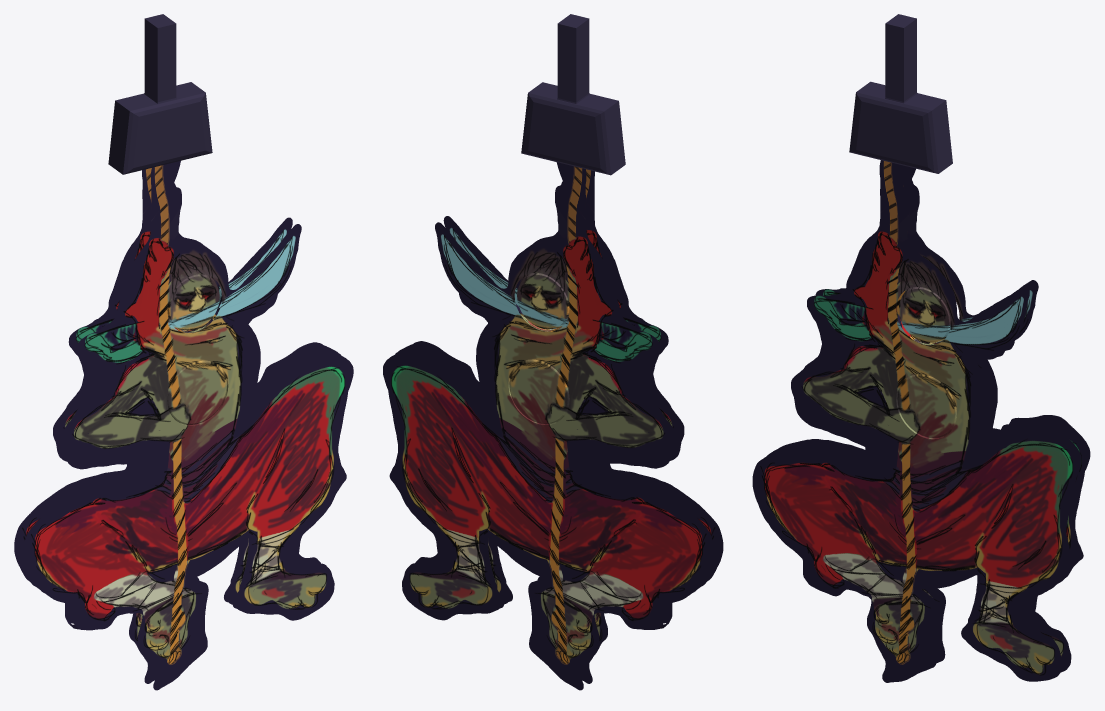
The model's file is Assasin.fbx.
3 renders of one model, left to right at view 1: azimuth 30°, elevation 25°; view 2: azimuth 150°, elevation 25°; view 3: azimuth 330°, elevation 25°, orthographic.
Parts seen in each view (by area): view 1: Assasin, AssasinHolder, AssassinHeart, AssasinHead; view 2: Assasin, AssasinHolder, AssassinHeart, AssasinHead; view 3: Assasin, AssasinHolder, AssassinHeart, AssasinHead.
Boxes of the visible parts, x1,y1,x2,y2 form: Assasin: [14, 161, 353, 690]; AssasinHolder: [108, 14, 212, 174]; AssassinHeart: [167, 360, 226, 424]; AssasinHead: [167, 274, 219, 330]; Assasin: [383, 162, 723, 690]; AssasinHolder: [521, 14, 625, 175]; AssassinHeart: [509, 359, 569, 424]; AssasinHead: [517, 273, 569, 329]; Assasin: [752, 160, 1090, 682]; AssasinHolder: [849, 14, 952, 173]; AssassinHeart: [897, 374, 956, 438]; AssasinHead: [898, 287, 950, 342].
Bounding box in the file's own units: 0.9942 × 1.89 × 0.0939.
